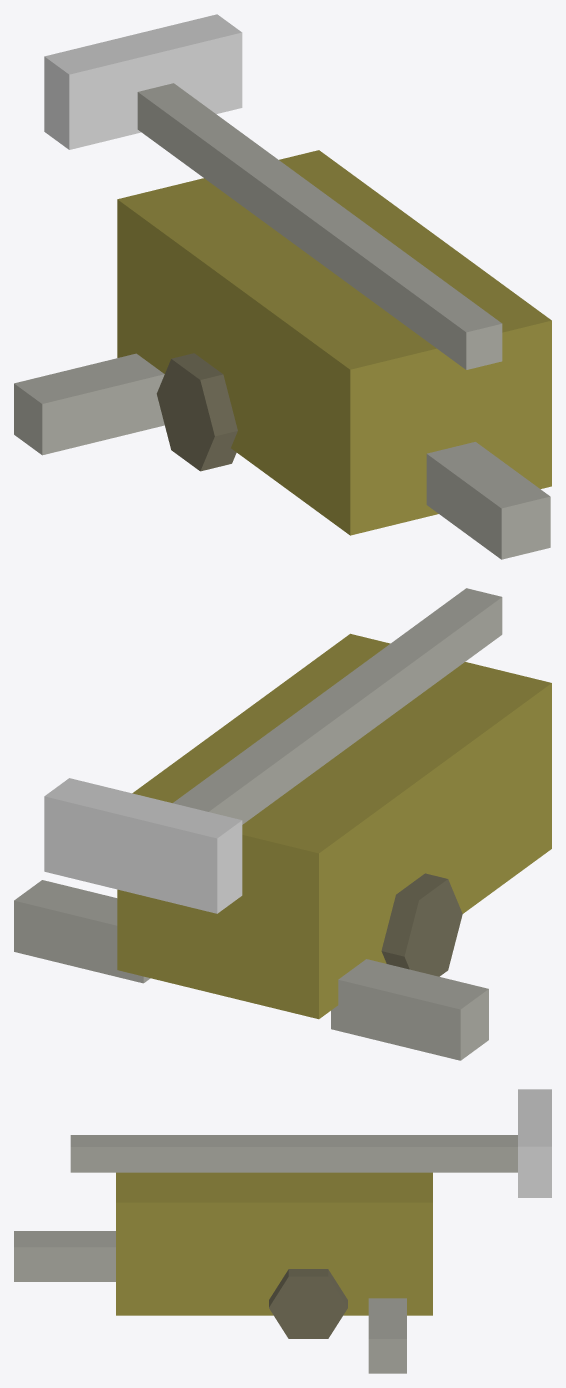
File: SM_TorreLuz_v1_Plegada_LOD1.fbx
The picture shows the model from 3 angles, top to bottom: view 1: azimuth 30°, elevation 25°; view 2: azimuth 150°, elevation 25°; view 3: azimuth 270°, elevation 25°; orthographic projection. The views are drawn at different scales.
Visible parts, largest first — view 1: SM_ambiente_aerodromo_v16_LOD1; view 2: SM_ambiente_aerodromo_v16_LOD1; view 3: SM_ambiente_aerodromo_v16_LOD1.
Part boxes in pixels (x1=…): SM_ambiente_aerodromo_v16_LOD1: x1=14, y1=14, x2=551, y2=559; SM_ambiente_aerodromo_v16_LOD1: x1=14, y1=588, x2=551, y2=1060; SM_ambiente_aerodromo_v16_LOD1: x1=14, y1=1089, x2=551, y2=1373.
Size of the model in its own units: 3.1 by 1.77 by 4.75.
